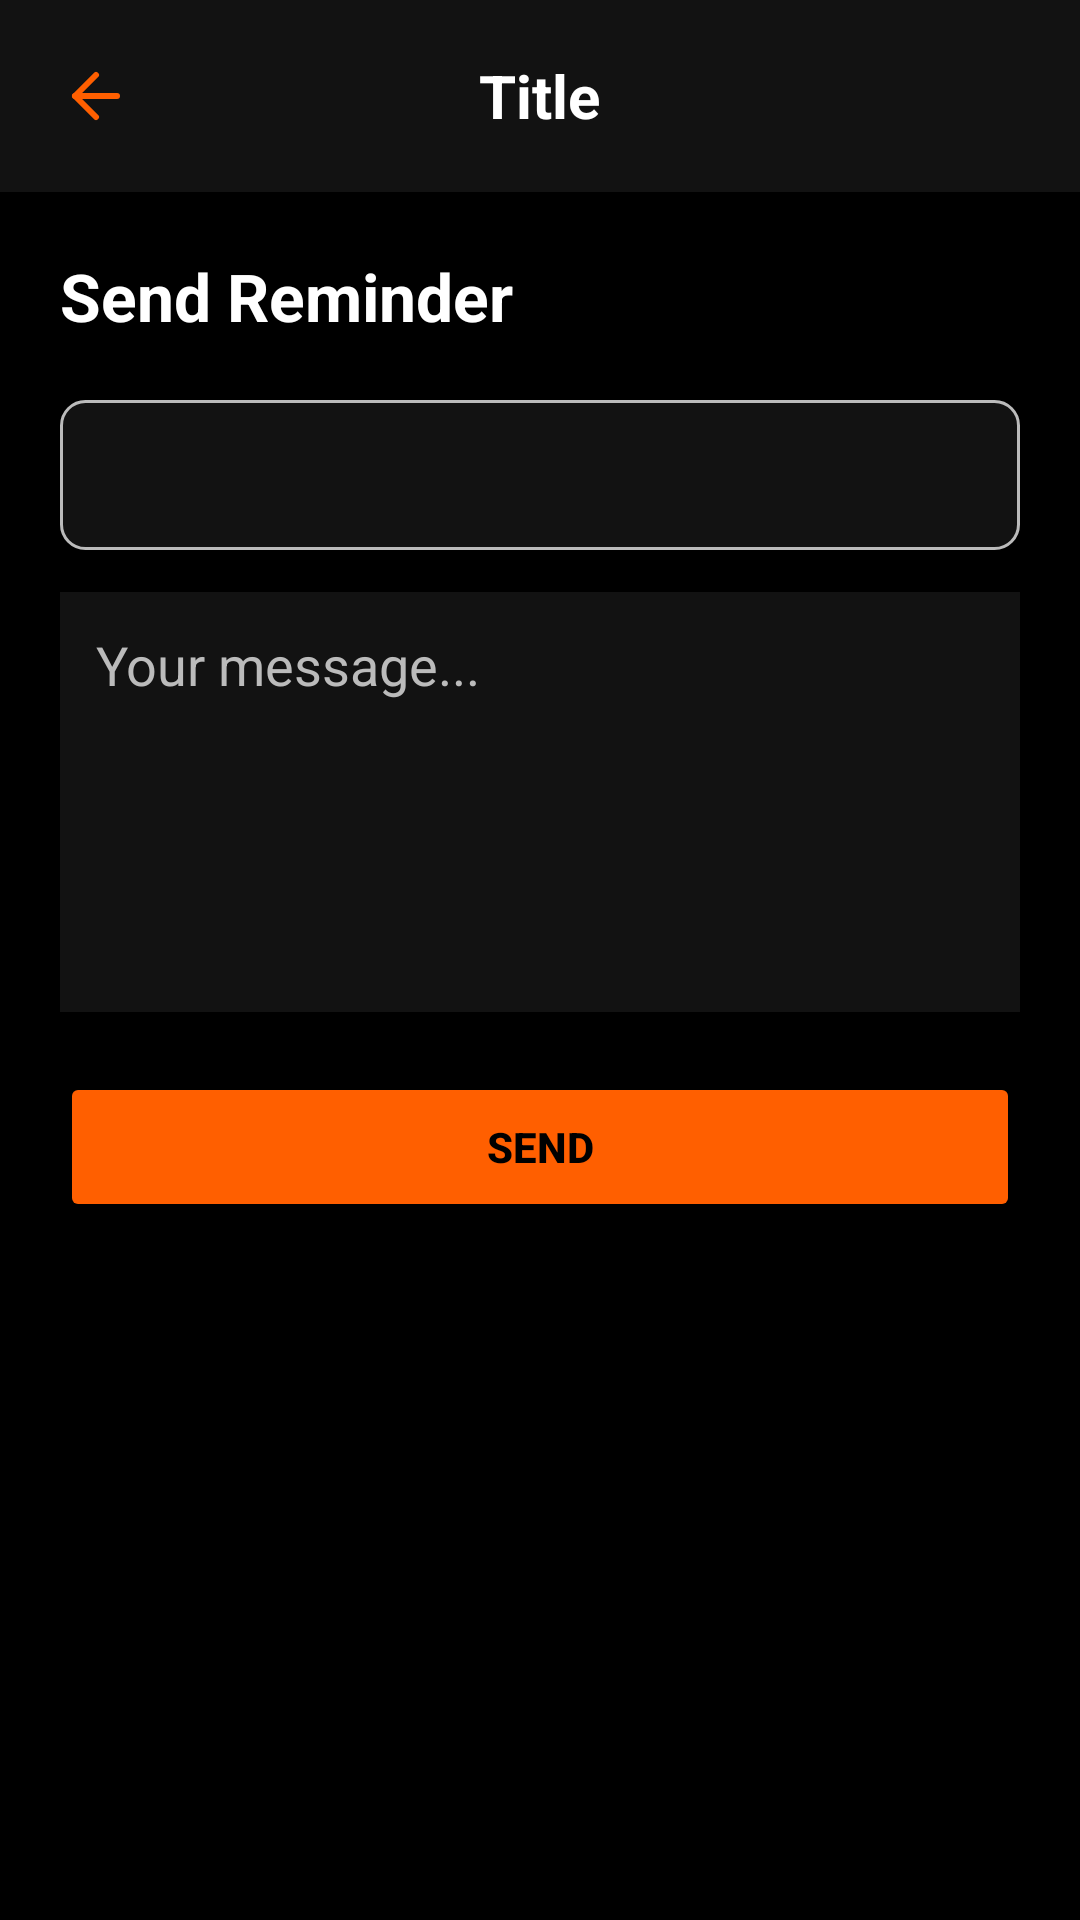

Where icons sit on this 1080 x 1920 app screen, as (x1, y1, x2, y2):
go back: (72, 72, 120, 120)
